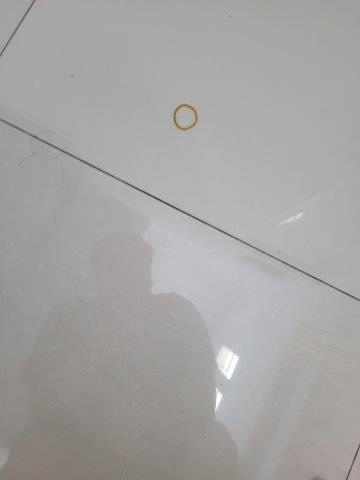karet: (173, 104, 197, 133)
